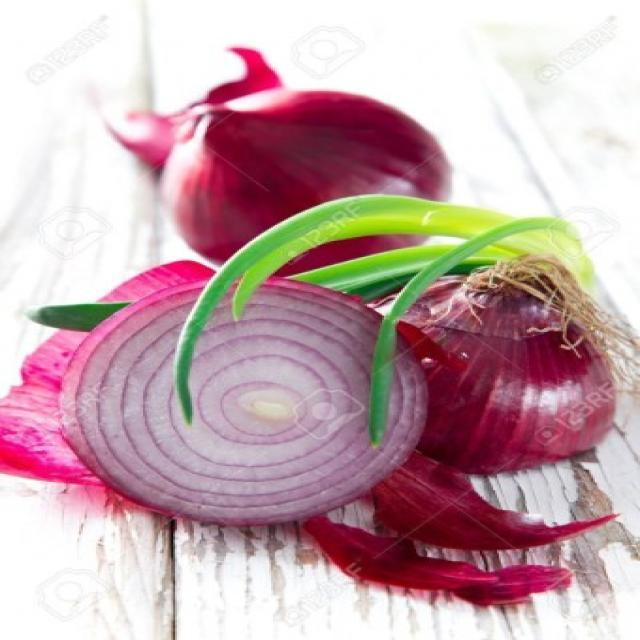onion: (33, 271, 464, 519), (142, 61, 514, 290)
